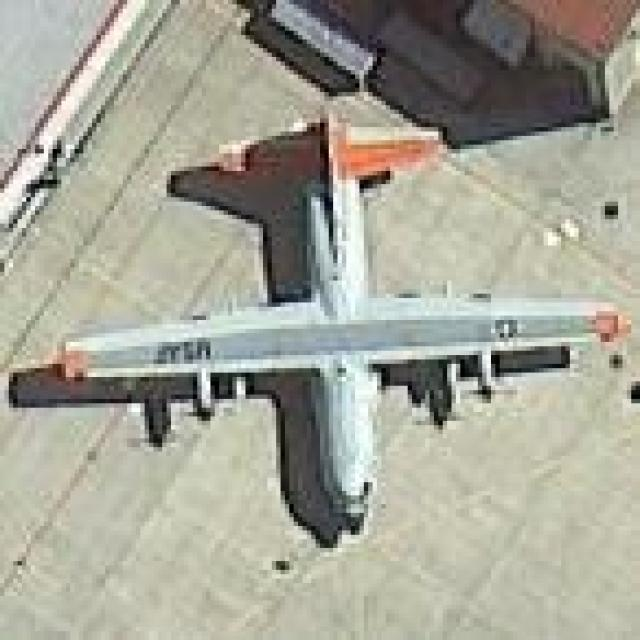C-130_TopDown: (7, 100, 636, 559)
